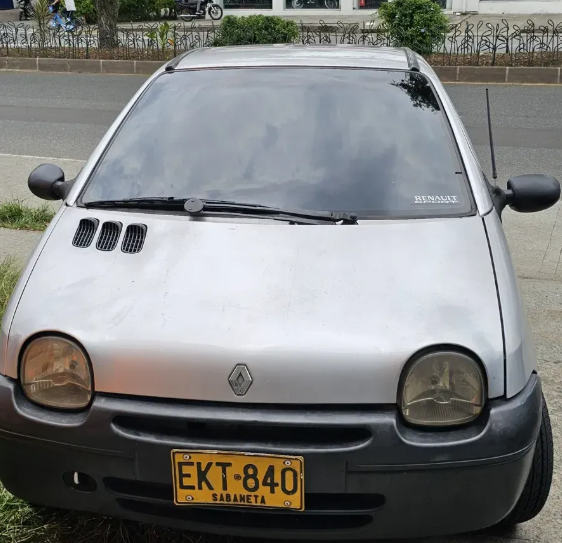placa: (170, 449, 306, 512)
